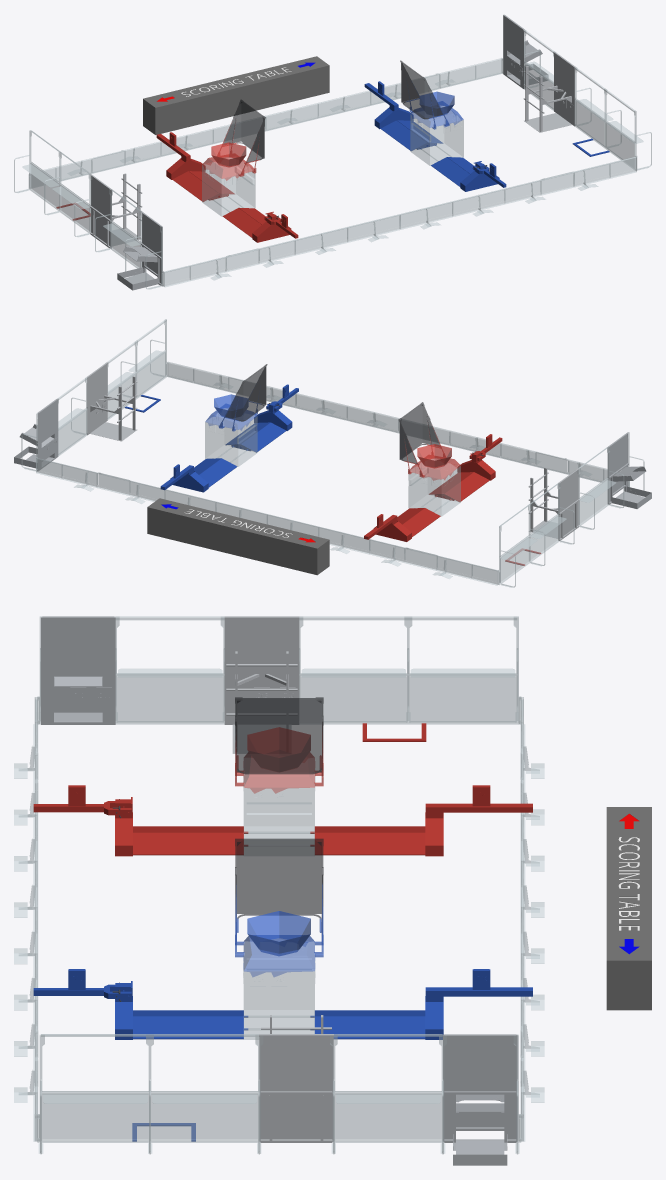
The model's file is field-2026-Cm3-YLZj.glb.
The picture shows the model from 3 angles, top to bottom: view 1: azimuth 30°, elevation 25°; view 2: azimuth 150°, elevation 25°; view 3: azimuth 270°, elevation 25°; orthographic projection. The views are drawn at different scales.
Parts seen in each view (by area): view 1: BLOCK CAD: ALLIANCE STATION, RED CORNER UPRIGHT, BLOCK CAD: HUB, BLUE, BLOCK CAD: SCORING TABLE, BLOCK CAD: TOWER, RED, BLOCK CAD: OUTPOST, BLUE, BLOCK CAD: TRENCH, FIXED, BLUE, BLOCK CAD: TRENCH, HINGED ARM, RED, BLOCK CAD: HUB, RED; view 2: BLOCK CAD: ALLIANCE STATION, RED CORNER UPRIGHT, BLOCK CAD: HUB, BLUE, BLOCK CAD: SCORING TABLE, BLOCK CAD: TOWER, RED, BLOCK CAD: OUTPOST, BLUE, BLOCK CAD: TRENCH, FIXED, BLUE, BLOCK CAD: TRENCH, HINGED ARM, RED, BLOCK CAD: HUB, RED; view 3: BLOCK CAD: ALLIANCE STATION, RED CORNER UPRIGHT, BLOCK CAD: HUB, BLUE, BLOCK CAD: TOWER, RED, BLOCK CAD: OUTPOST, BLUE, BLOCK CAD: TRENCH, HINGED ARM, RED, BLOCK CAD: TRENCH, FIXED, BLUE, BLOCK CAD: SCORING TABLE, BLOCK CAD: HUB, RED.
Boxes of the visible parts, x1,y1,x2,y2 form: BLOCK CAD: ALLIANCE STATION, RED CORNER UPRIGHT: (14,14,651,289); BLOCK CAD: HUB, BLUE: (202,60,463,216); BLOCK CAD: SCORING TABLE: (143,56,329,134); BLOCK CAD: TOWER, RED: (90,52,575,248); BLOCK CAD: OUTPOST, BLUE: (117,15,548,290); BLOCK CAD: TRENCH, FIXED, BLUE: (364,81,609,191); BLOCK CAD: TRENCH, HINGED ARM, RED: (56,132,298,242); BLOCK CAD: HUB, RED: (202,123,259,180); BLOCK CAD: ALLIANCE STATION, RED CORNER UPRIGHT: (21,319,644,587); BLOCK CAD: HUB, BLUE: (205,364,460,516); BLOCK CAD: SCORING TABLE: (147,498,329,575); BLOCK CAD: TOWER, RED: (86,362,579,540); BLOCK CAD: OUTPOST, BLUE: (14,399,651,508); BLOCK CAD: TRENCH, FIXED, BLUE: (124,384,298,492); BLOCK CAD: TRENCH, HINGED ARM, RED: (364,434,541,565); BLOCK CAD: HUB, RED: (404,428,460,480); BLOCK CAD: ALLIANCE STATION, RED CORNER UPRIGHT: (14,616,544,1154); BLOCK CAD: HUB, BLUE: (235,697,323,1039); BLOCK CAD: TOWER, RED: (224,616,333,1142); BLOCK CAD: OUTPOST, BLUE: (41,616,517,1165); BLOCK CAD: TRENCH, HINGED ARM, RED: (33,723,532,856); BLOCK CAD: TRENCH, FIXED, BLUE: (33,969,532,1141); BLOCK CAD: SCORING TABLE: (606,807,651,1010); BLOCK CAD: HUB, RED: (235,727,323,793).
Size of the model in its own units: 18.46 by 3.06 by 10.7.
